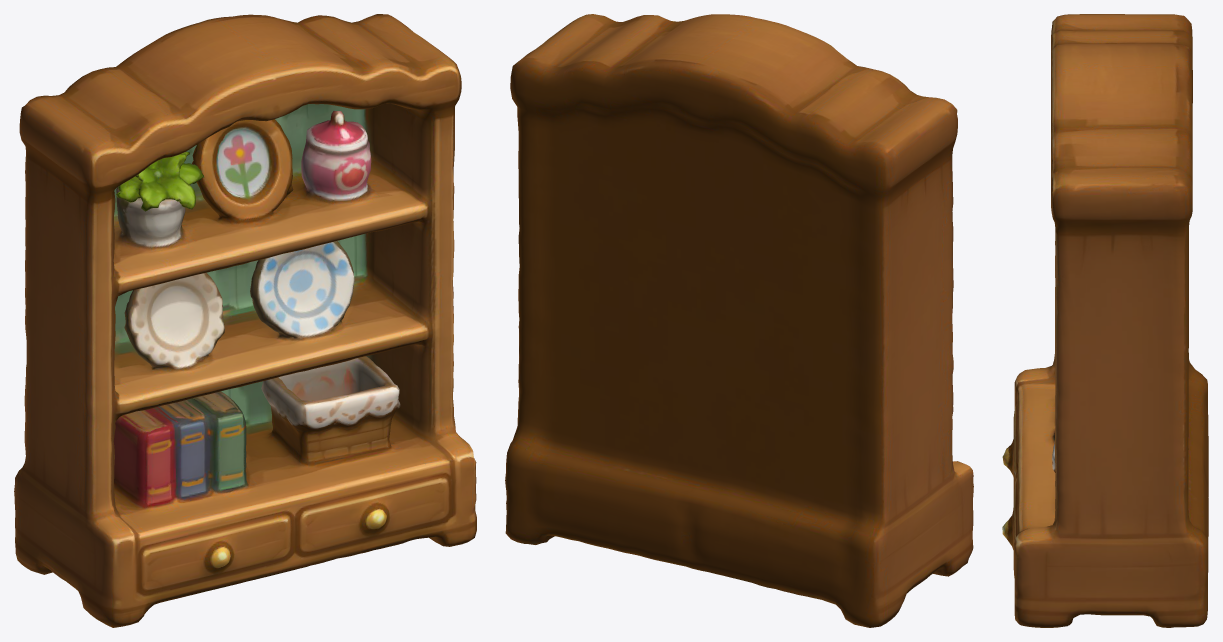
Rendered from Wood_shelf.glb.
The picture shows the model from 3 angles, left to right: view 1: azimuth 30°, elevation 25°; view 2: azimuth 150°, elevation 25°; view 3: azimuth 270°, elevation 25°; orthographic projection. The views are drawn at different scales.
Visible parts, largest first — view 1: RETOPO; view 2: RETOPO; view 3: RETOPO.
Boxes of the visible parts, x1=… form: RETOPO: x1=14, y1=14, x2=476, y2=627; RETOPO: x1=505, y1=14, x2=973, y2=627; RETOPO: x1=1002, y1=14, x2=1208, y2=627.
Size of the model in its own units: 0.7207 by 0.9229 by 0.3579.
Materials: 1 (1 with a texture image).
